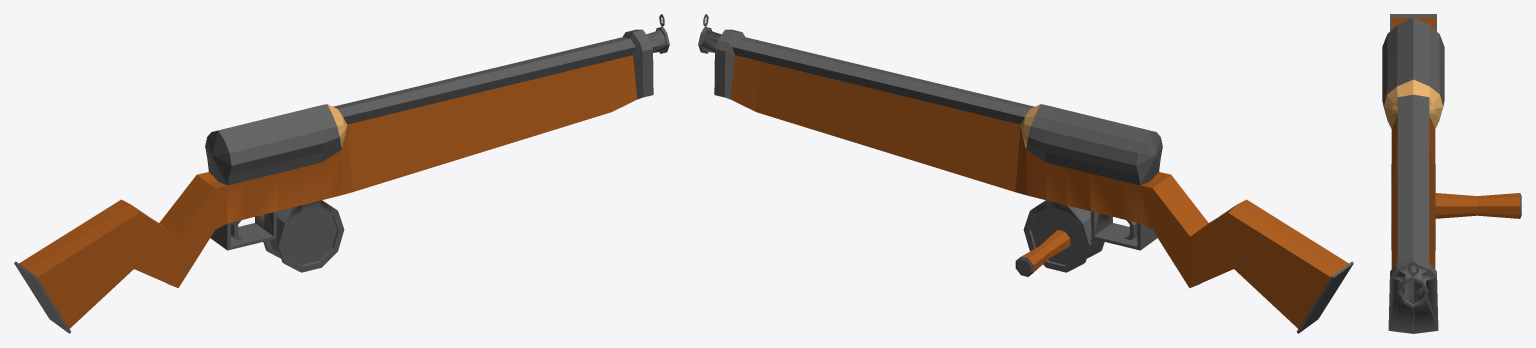
The model's file is fatCock.fbx.
3 renders of one model, left to right at view 1: azimuth 30°, elevation 25°; view 2: azimuth 150°, elevation 25°; view 3: azimuth 270°, elevation 25°, orthographic. The views are drawn at different scales.
Parts seen in each view (by area): view 1: gun; view 2: gun; view 3: gun.
Part boxes in pixels (box(x1,y1,x2,y2)): gun: box(14, 14, 669, 333); gun: box(698, 14, 1353, 333); gun: box(1382, 14, 1521, 333).
Bounding box in the file's own units: 104 × 25.81 × 16.81.
